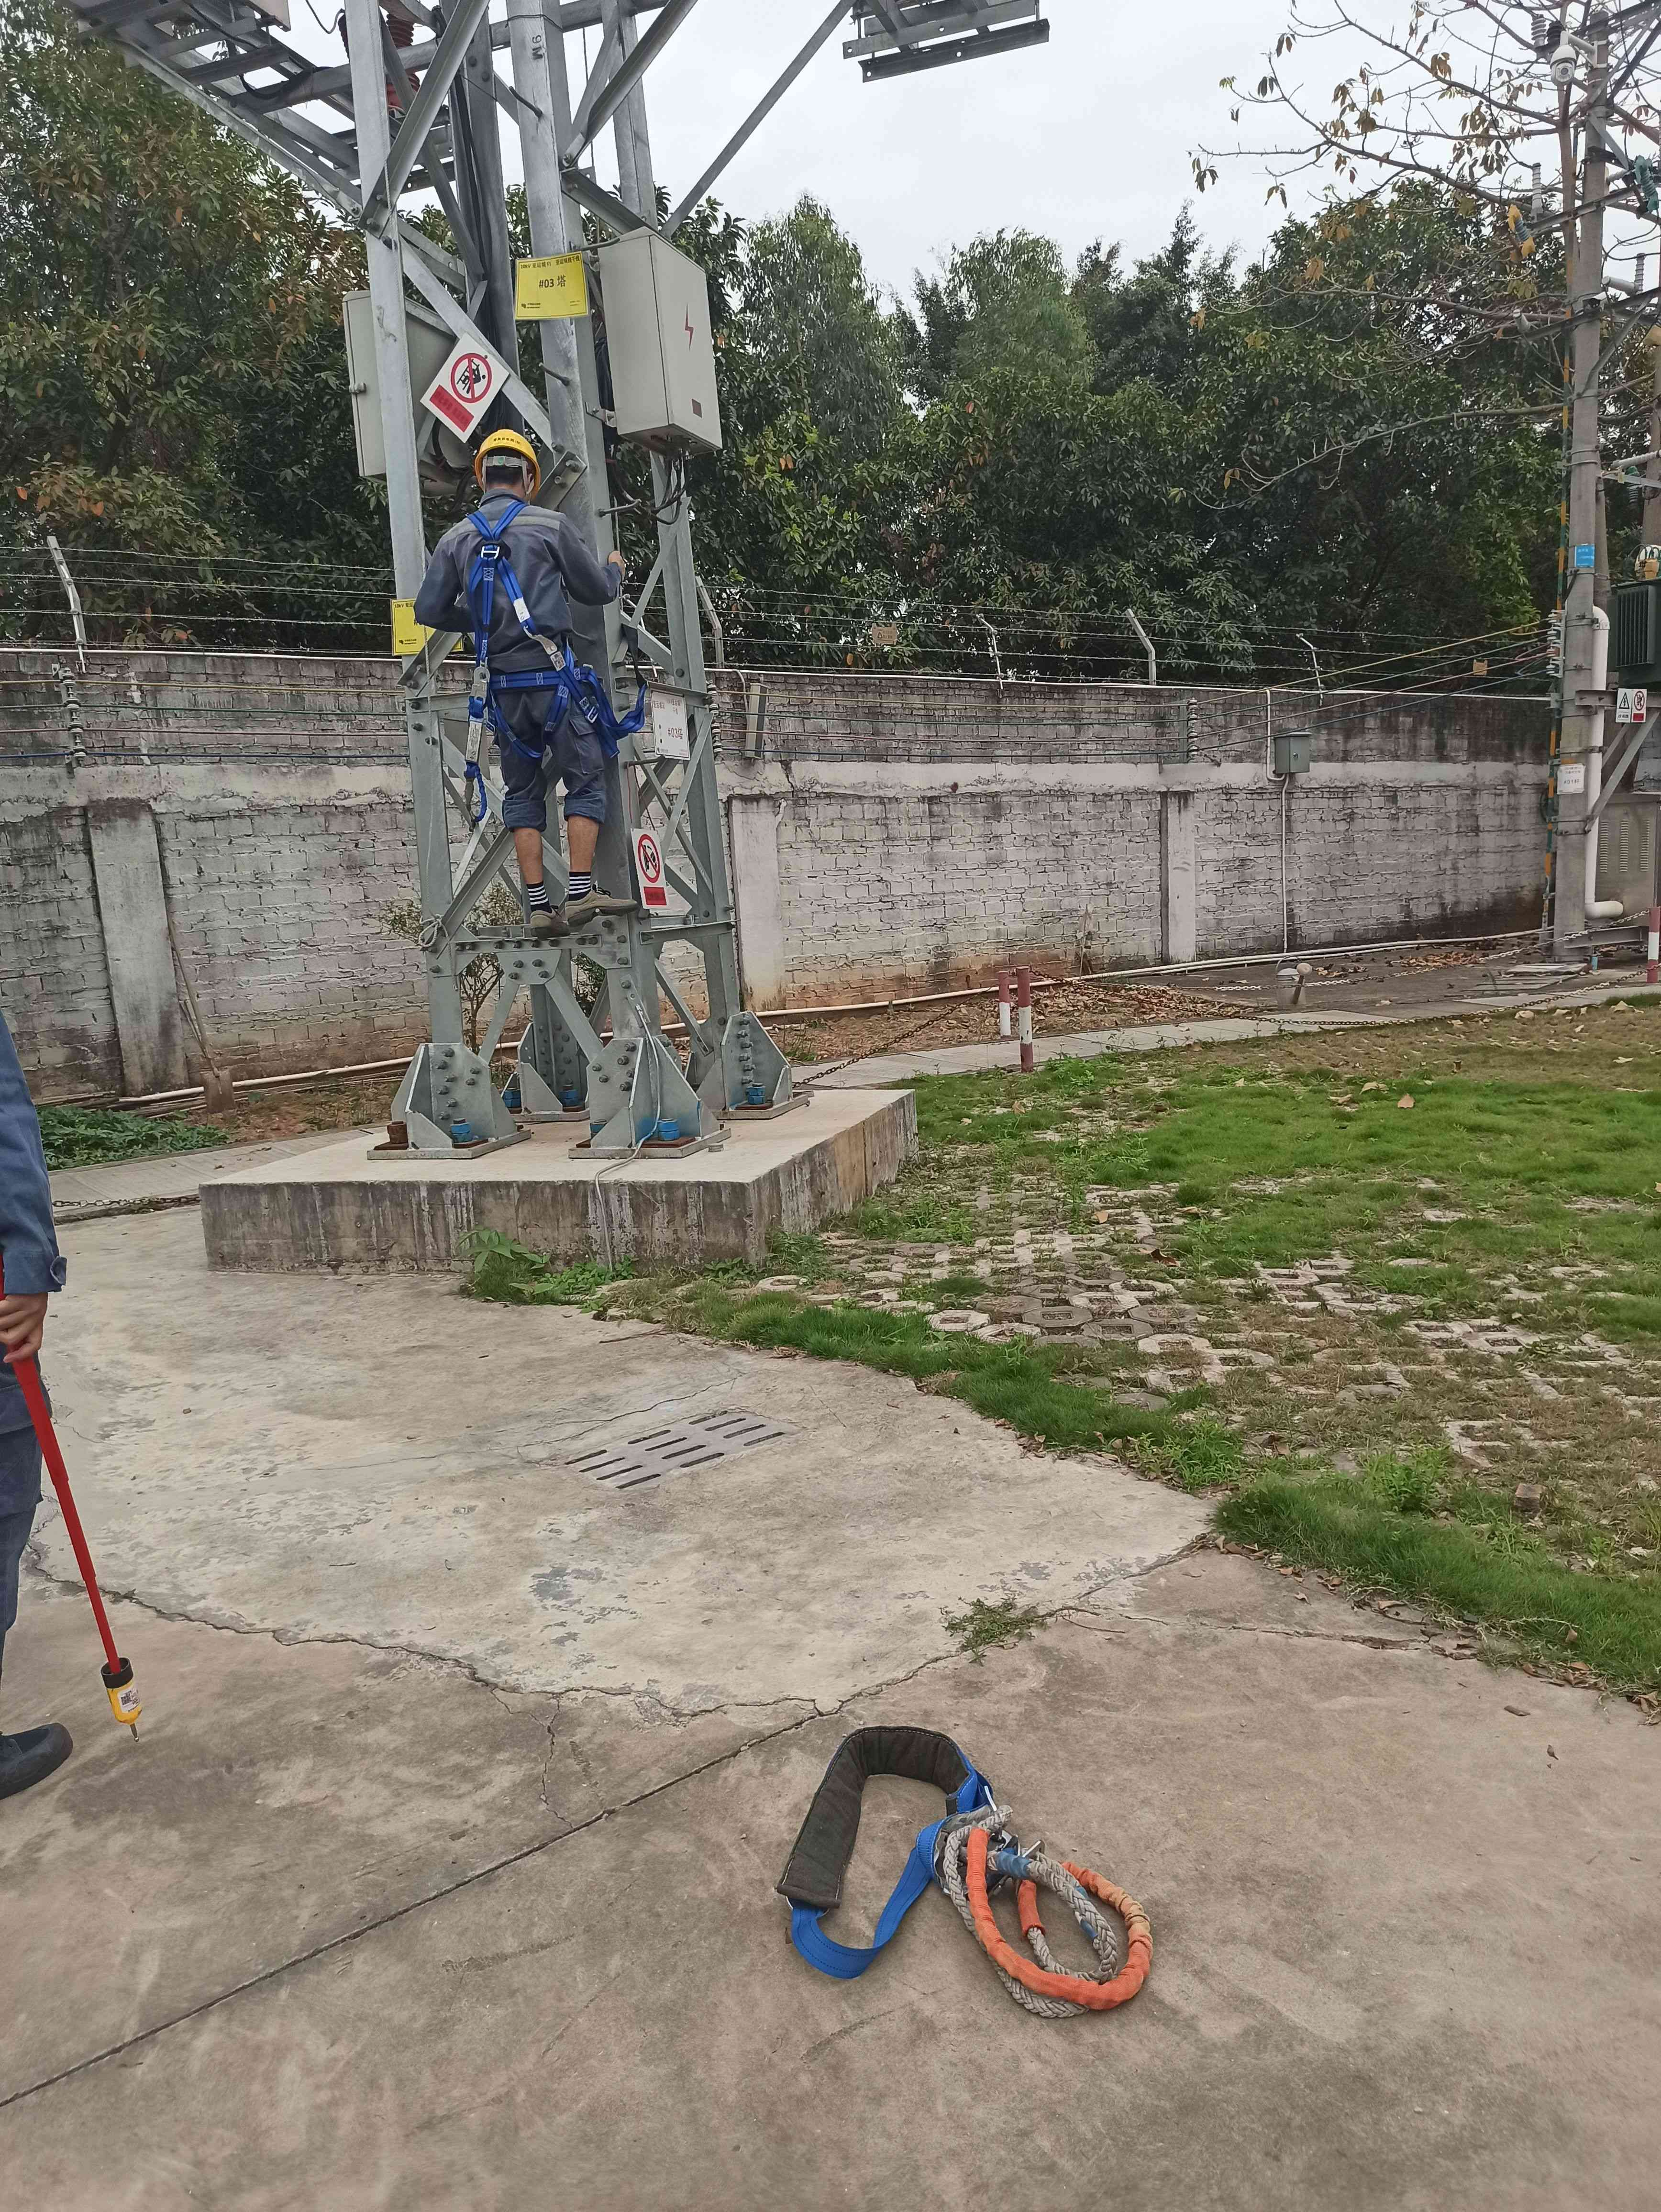downsuit: (485, 693, 611, 827)
upsuit: (414, 487, 626, 668)
wrongbottom: (502, 795, 605, 890)
